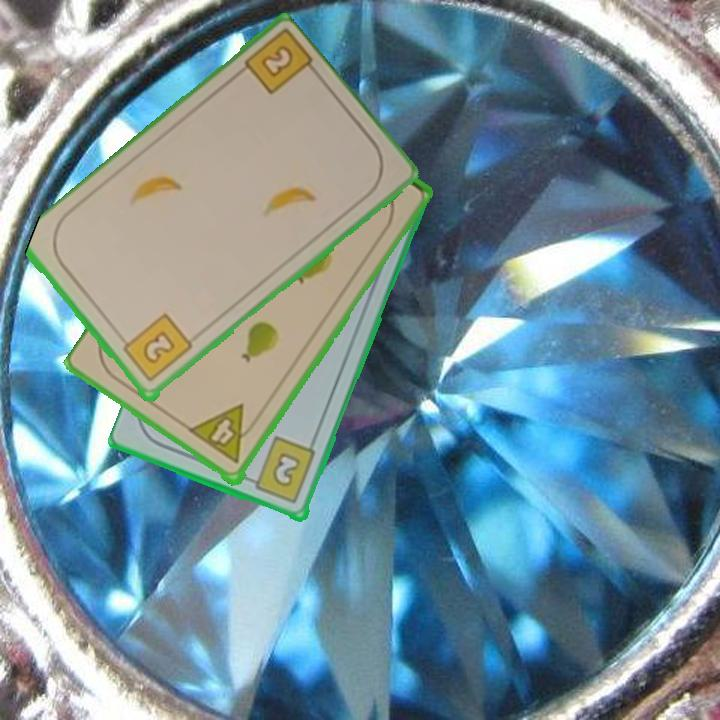2b: (115, 310, 195, 386), (244, 434, 319, 507), (257, 42, 297, 81)
4p: (187, 401, 263, 468)
